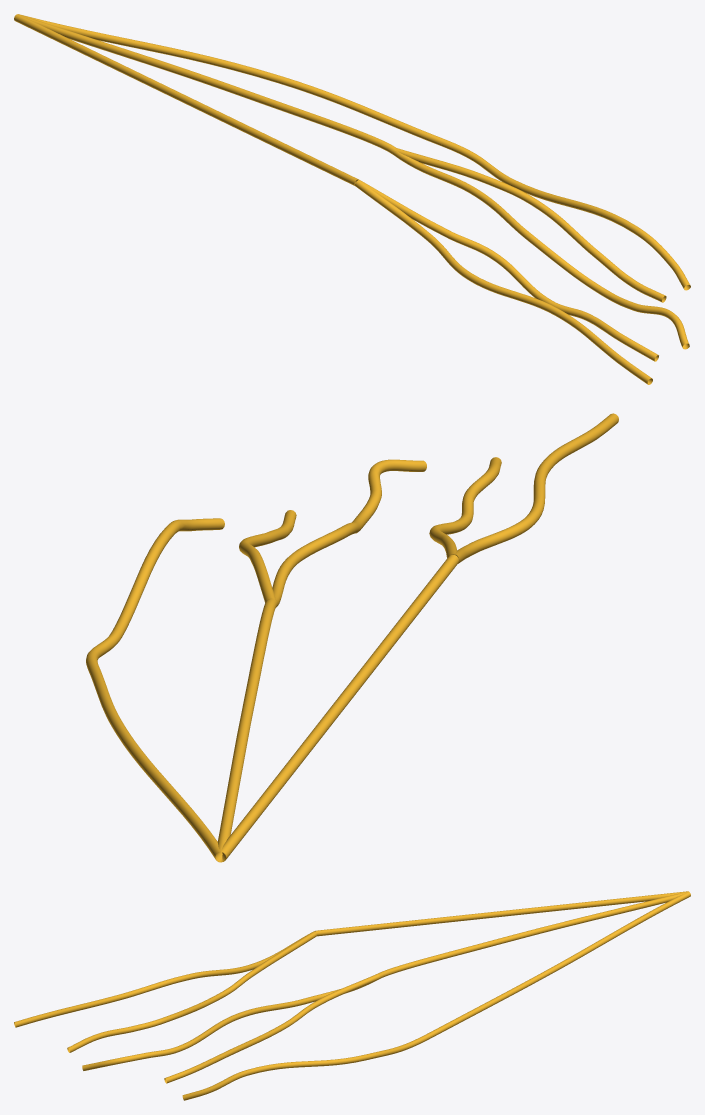
The model's file is nervoso-common-plantar-digital-branches-of-lateral-plantar-nerve-l.glb.
The picture shows the model from 3 angles, top to bottom: view 1: azimuth 30°, elevation 25°; view 2: azimuth 150°, elevation 25°; view 3: azimuth 270°, elevation 25°; orthographic projection. The views are drawn at different scales.
Parts seen in each view (by area): view 1: Proper plantar digital branches of lateral plantar nerve.l, Common plantar digital branches of lateral plantar nerve.l; view 2: Proper plantar digital branches of lateral plantar nerve.l, Common plantar digital branches of lateral plantar nerve.l; view 3: Proper plantar digital branches of lateral plantar nerve.l, Common plantar digital branches of lateral plantar nerve.l.
Boxes of the visible parts, x1,y1,x2,y2 form: Proper plantar digital branches of lateral plantar nerve.l: (355, 139, 690, 384); Common plantar digital branches of lateral plantar nerve.l: (14, 14, 443, 185); Proper plantar digital branches of lateral plantar nerve.l: (86, 413, 618, 668); Common plantar digital branches of lateral plantar nerve.l: (87, 554, 458, 862); Proper plantar digital branches of lateral plantar nerve.l: (14, 931, 432, 1100); Common plantar digital branches of lateral plantar nerve.l: (315, 891, 690, 1036).
Bounding box in the file's own units: 0.0513 × 0.0161 × 0.1158.
